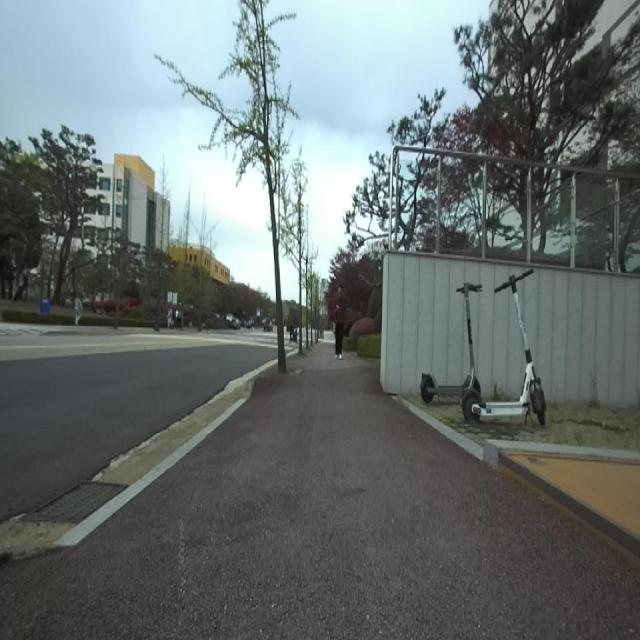sidewalk: (0, 343, 640, 639), (54, 398, 246, 546)
